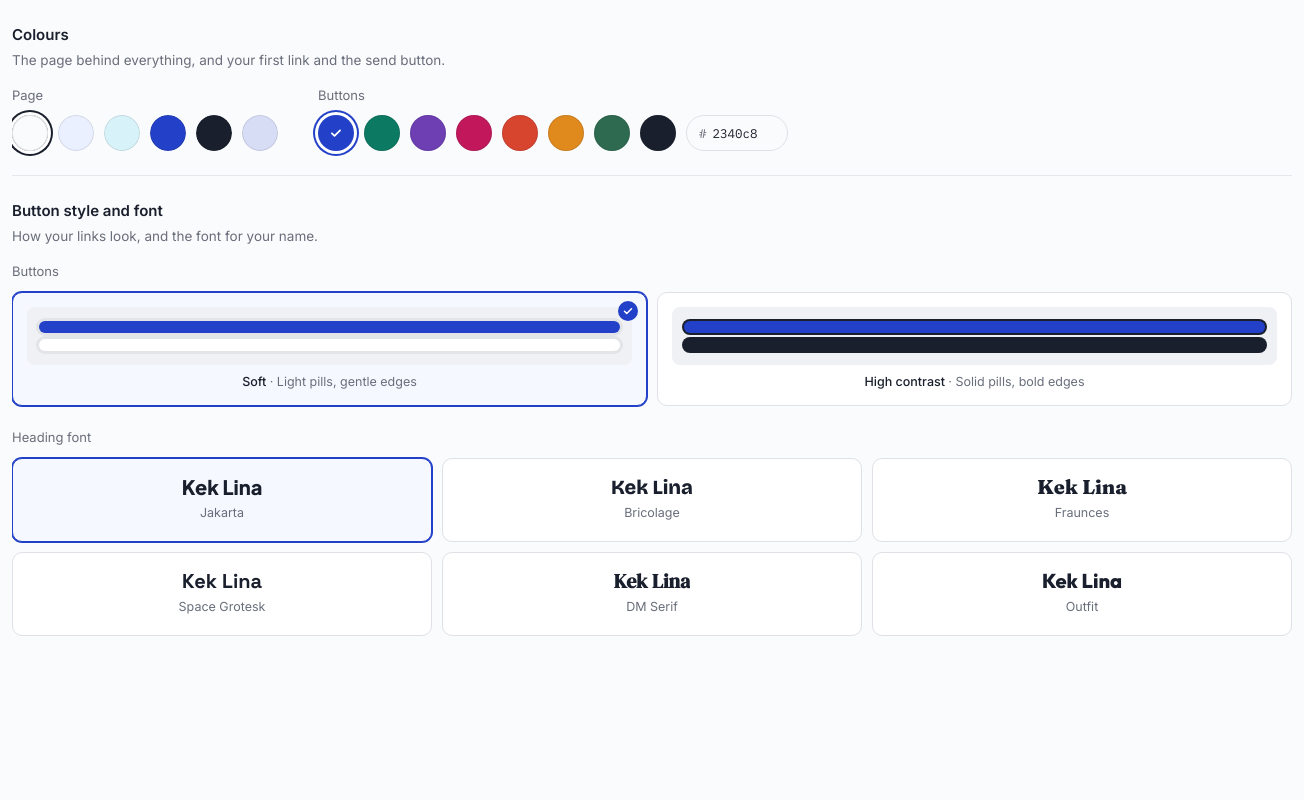
AppearanceEditor › shows an error when a save fails
Step 1. Click the button "High contrast · Solid pills, bold edges" → (974, 349), box [657, 292, 1292, 406]
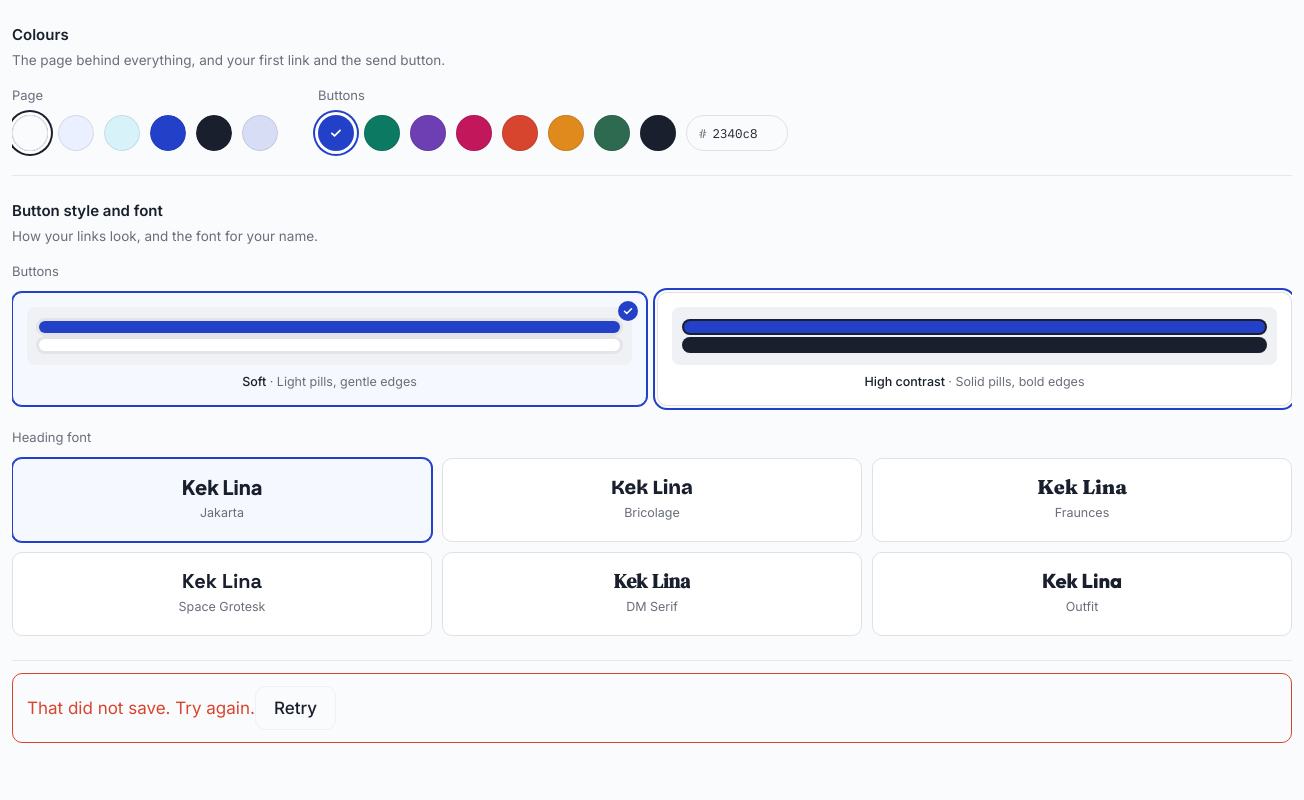
Result: the message shows "did not save" at [27, 698, 255, 718]
